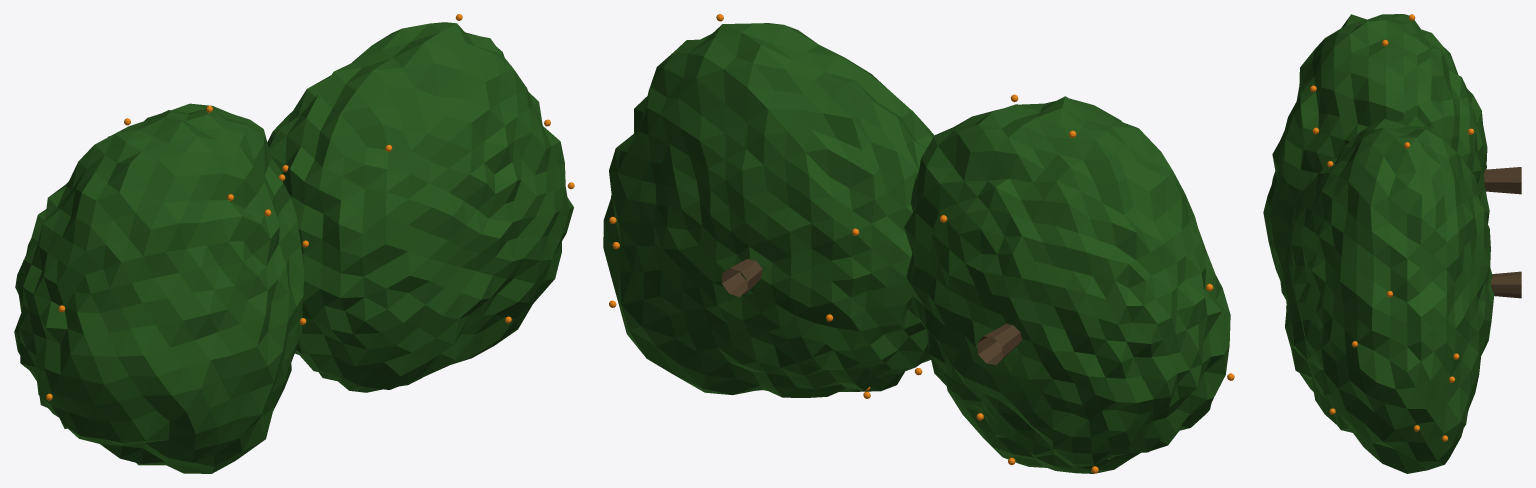
The model's file is citrus_run2_e_fruit.obj.
3 views of the same model, side by side, from view 1: azimuth 30°, elevation 25°; view 2: azimuth 150°, elevation 25°; view 3: azimuth 270°, elevation 25° (orthographic). The views are drawn at different scales.
Visible parts, largest first — view 1: canopy, fruit; view 2: canopy, trunk, fruit; view 3: canopy, trunk, fruit.
Part boxes in pixels (x1,y1,x2,y2): canopy: (14,22,573,473); fruit: (46,14,574,400); canopy: (603,23,1230,473); trunk: (722,258,1021,364); fruit: (609,14,1234,473); canopy: (1263,14,1494,473); trunk: (1484,167,1521,298); fruit: (1310,14,1474,441).
Bounding box in the file's own units: 6.92 × 4.42 × 2.99.
